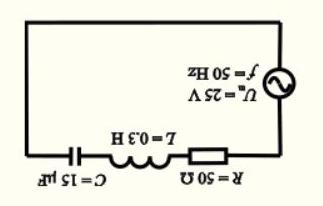Capacitor: (56, 143, 90, 172)
